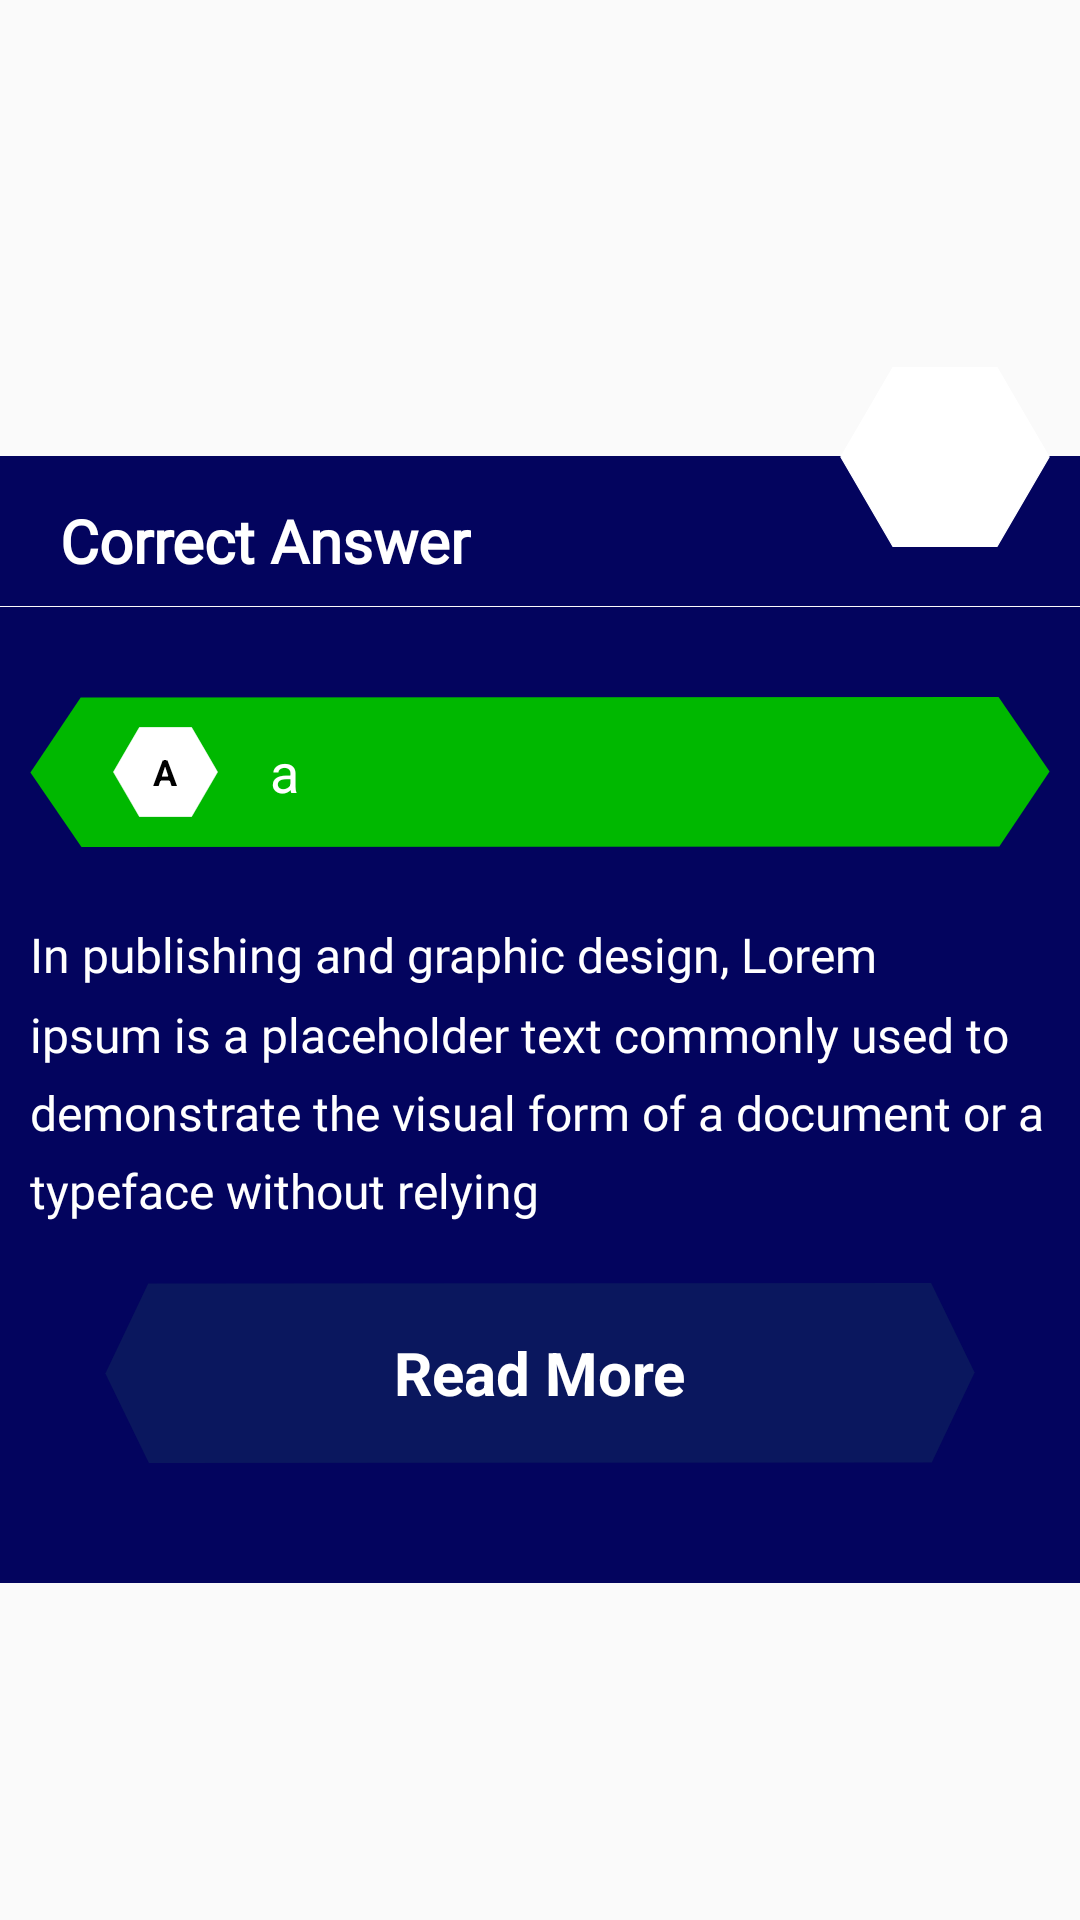

Screen size 1080×1920. Icon name, then its center in pixels as (x,y):
hexagon: (945,457), (165,772)
